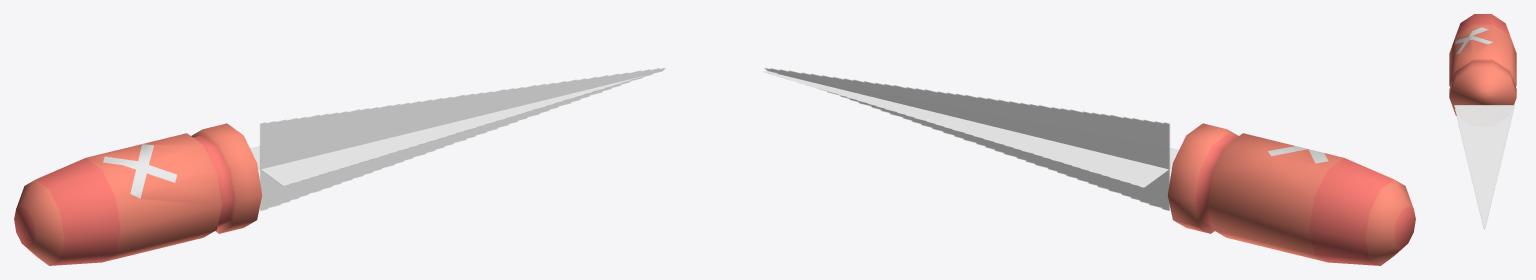
The model's file is artilery_shell.glb.
3 views of the same model, side by side, from view 1: azimuth 30°, elevation 25°; view 2: azimuth 150°, elevation 25°; view 3: azimuth 270°, elevation 25° (orthographic). The views are drawn at different scales.
Parts seen in each view (by area): view 1: Cylinder, trace, trace.001; view 2: Cylinder, trace, trace.001; view 3: Cylinder, trace.001.
Part boxes in pixels (<box>): Cylinder: <box>14,123,262,265</box>; trace: <box>260,68,664,210</box>; trace.001: <box>250,70,663,185</box>; Cylinder: <box>1167,123,1415,265</box>; trace: <box>765,68,1169,210</box>; trace.001: <box>764,71,1178,187</box>; Cylinder: <box>1449,14,1516,115</box>; trace.001: <box>1454,105,1514,229</box>.
Bounding box in the file's own units: 11.69 × 1.92 × 1.92.
Materials: 4 (1 with a texture image).
